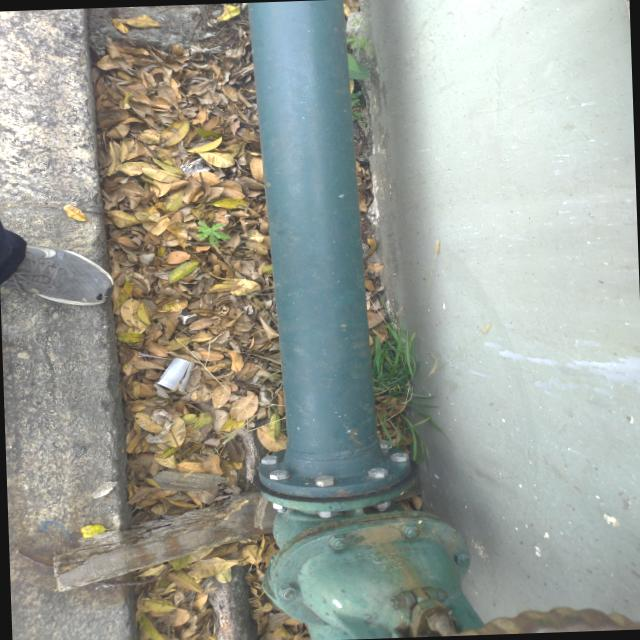gas: (252, 0, 390, 632)
